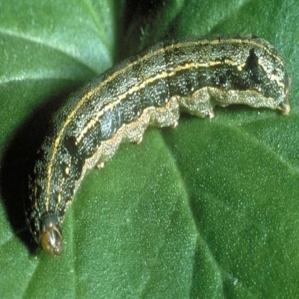Beet armyworm: (8, 14, 299, 259)
